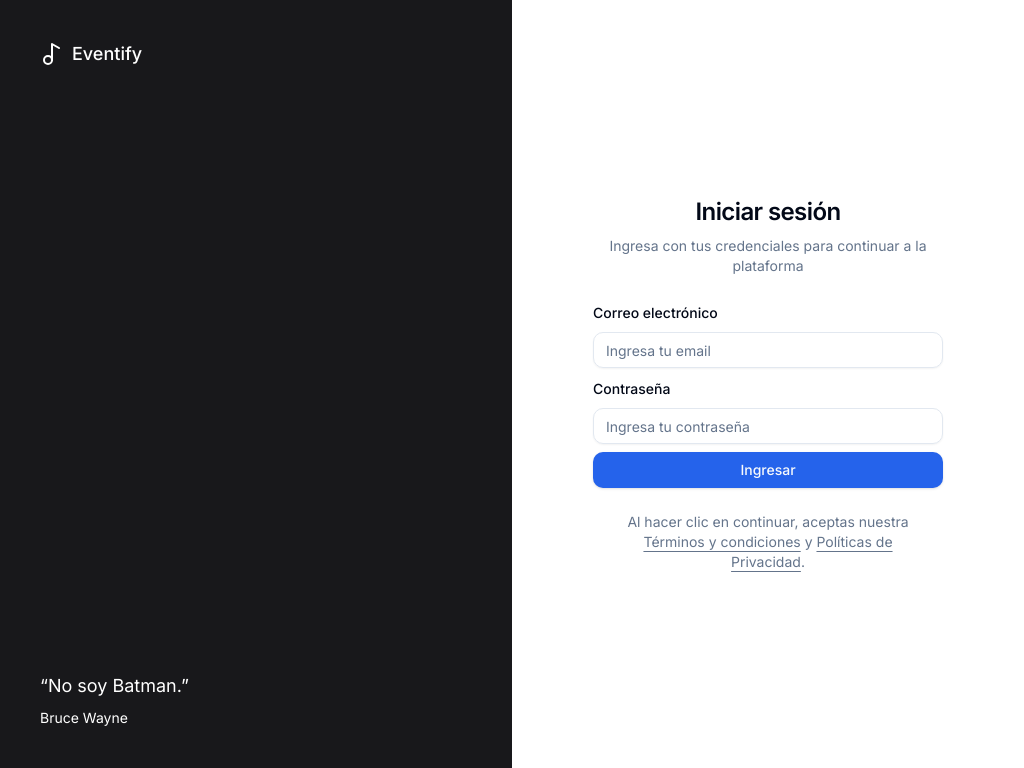
Scenario: Tests de integracion> › Devuelve toast de error al ingresar credenciales invalidas
This screenshot has width=1024, height=768.
Type "example@example.com" into the field named "email".
click(768, 350); type("example@example.com")  # box [593,332,943,368]
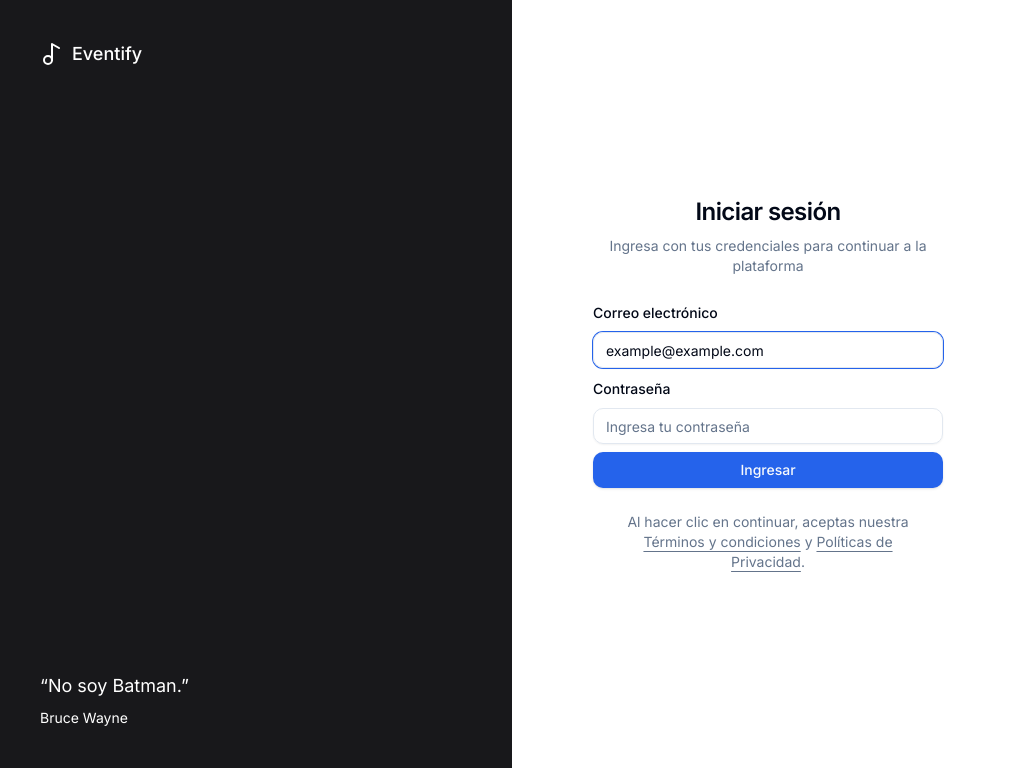
Type "password" into the password field named "password".
click(768, 426); type("password")  # box [593,408,943,444]
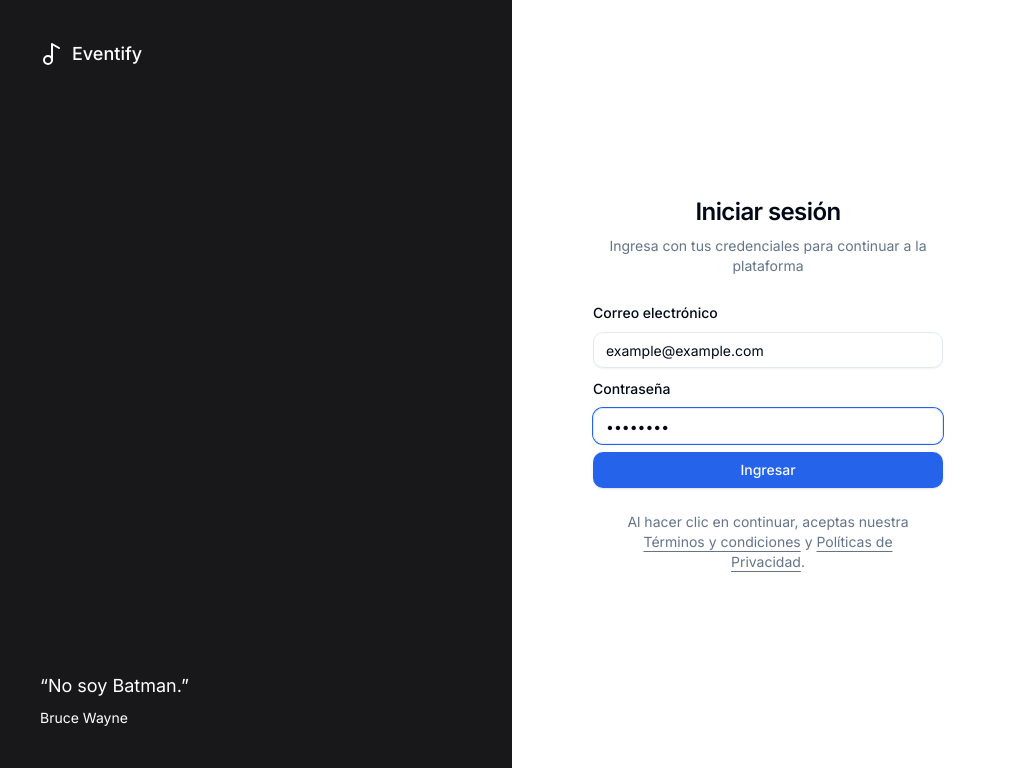
Click the button "Ingresar".
click(768, 470)  # box [593,452,943,488]
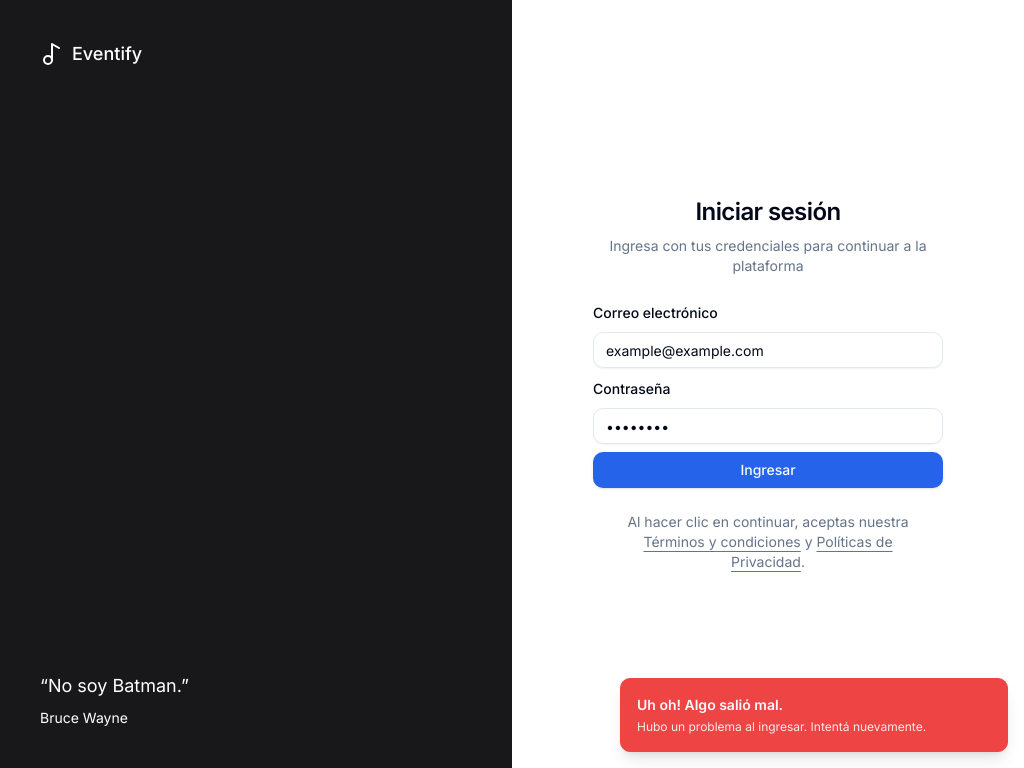
Result: the list reads "Uh oh! Algo salió mal. Hubo un problema al ingresar. Intentá nuevamente." at [604,662,1023,767]
